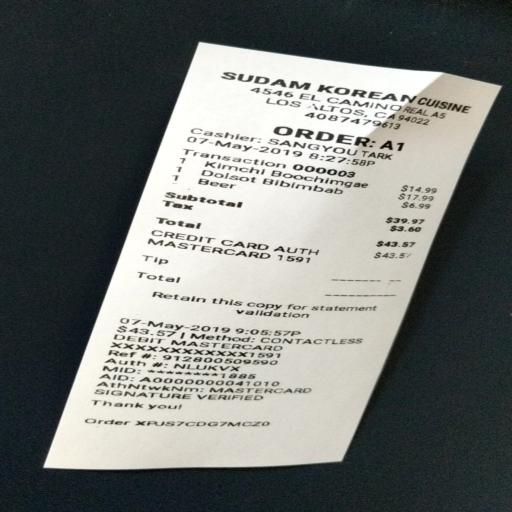paper: (33, 8, 512, 512)
